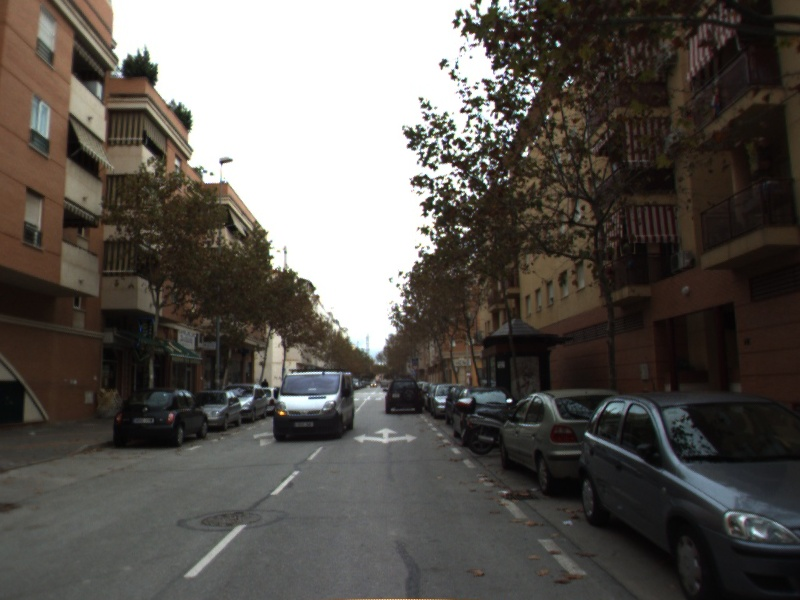STRAIGHT_LEFT_RIGHT: (351, 426, 420, 446)
